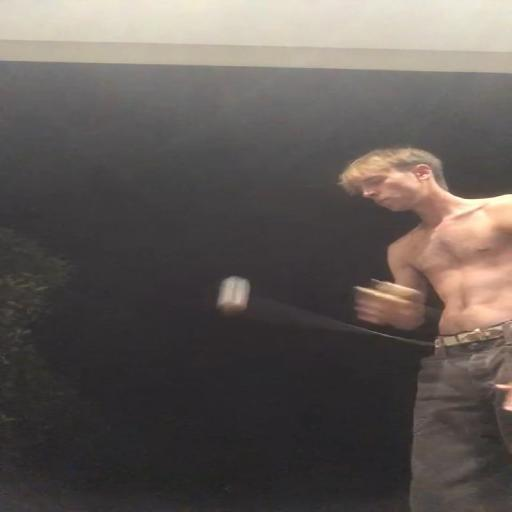kendama_ball: (218, 276, 250, 311)
